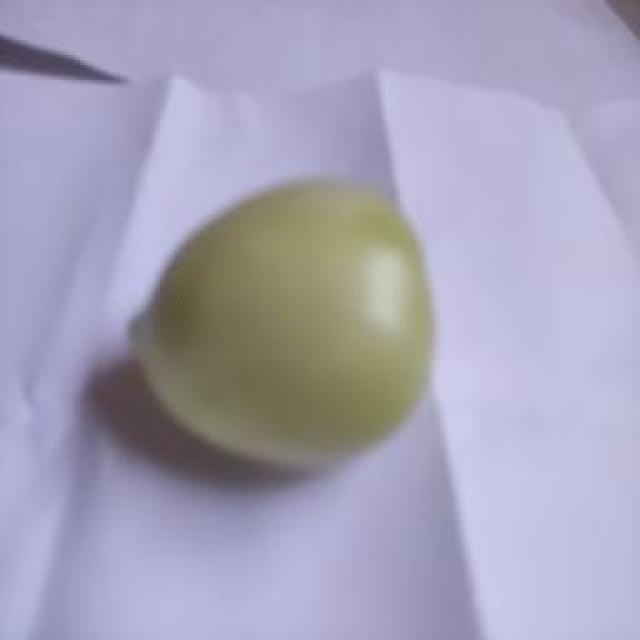unripe tomato: (129, 180, 433, 466)
